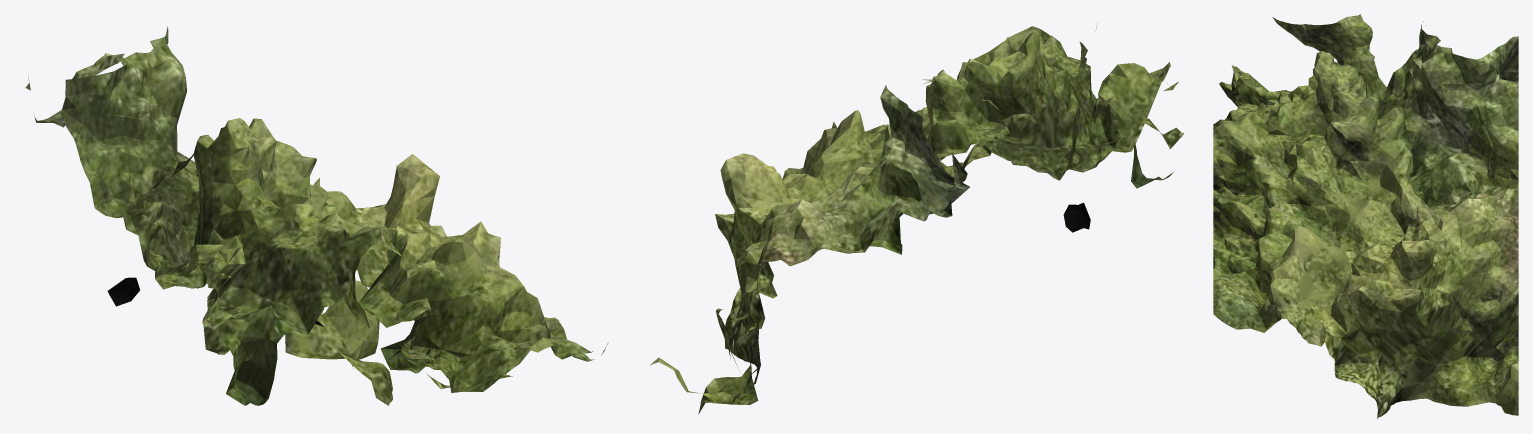
The picture shows the model from 3 angles, left to right: view 1: azimuth 30°, elevation 25°; view 2: azimuth 150°, elevation 25°; view 3: azimuth 270°, elevation 25°; orthographic projection. The views are drawn at different scales.
Bounding box in the file's own units: 5.9 × 5.9 × 5.9.
5 materials, 5 textured.
